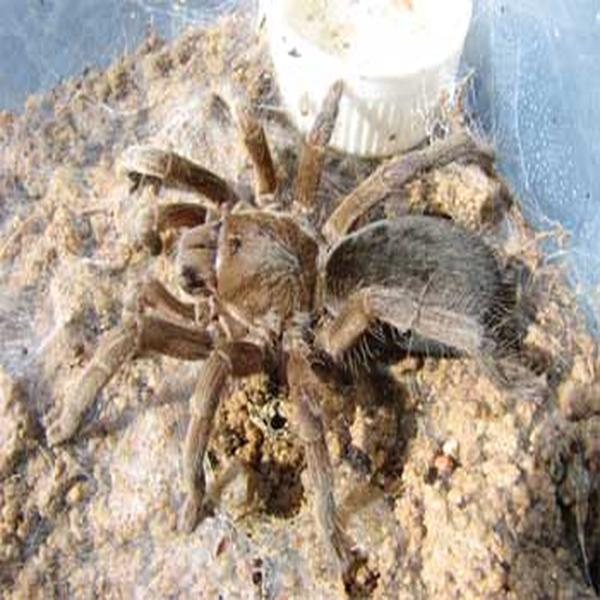Tarantula Spider: (84, 90, 514, 551)
